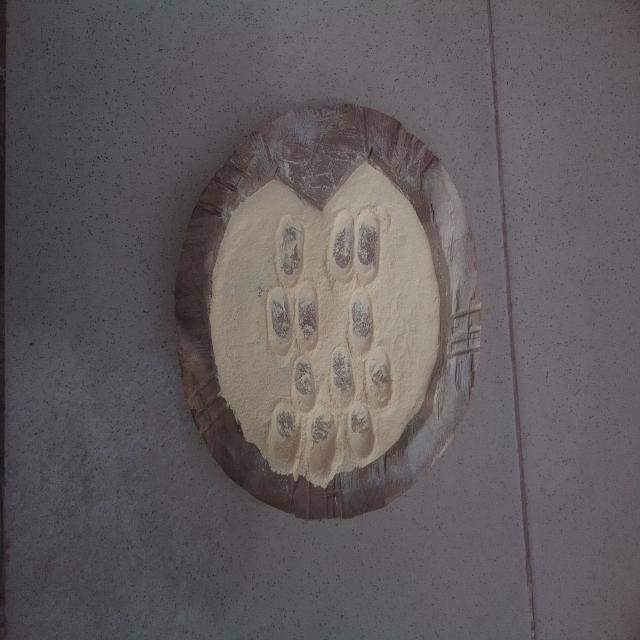double: (324, 202, 386, 298), (268, 400, 337, 482), (262, 288, 324, 359), (328, 352, 395, 410)
single: (272, 212, 308, 290), (286, 362, 324, 412), (341, 414, 378, 462), (342, 302, 379, 350)
